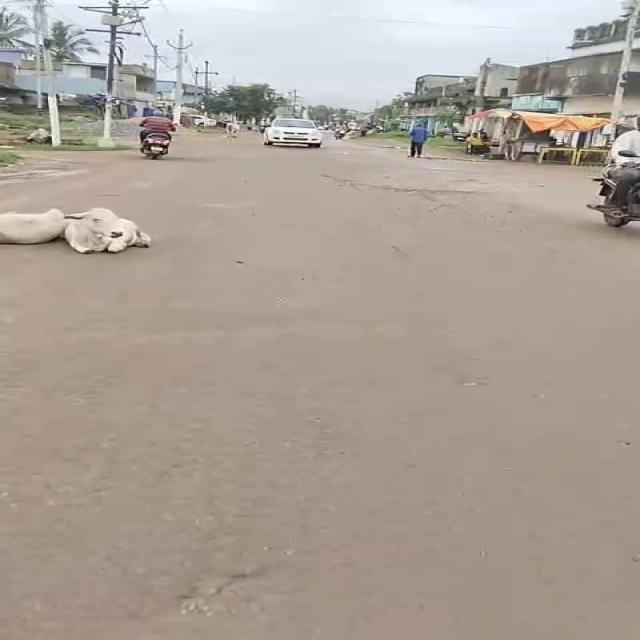pothole: (170, 593, 226, 613), (456, 378, 482, 390)
